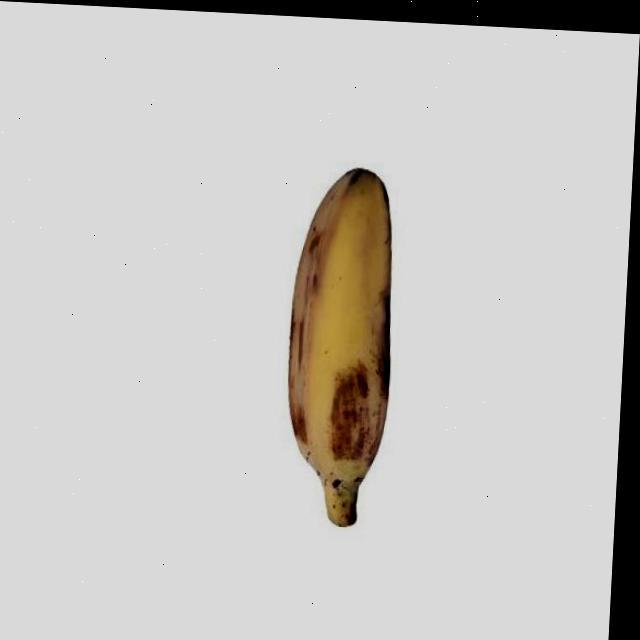banana: (273, 159, 406, 536)
